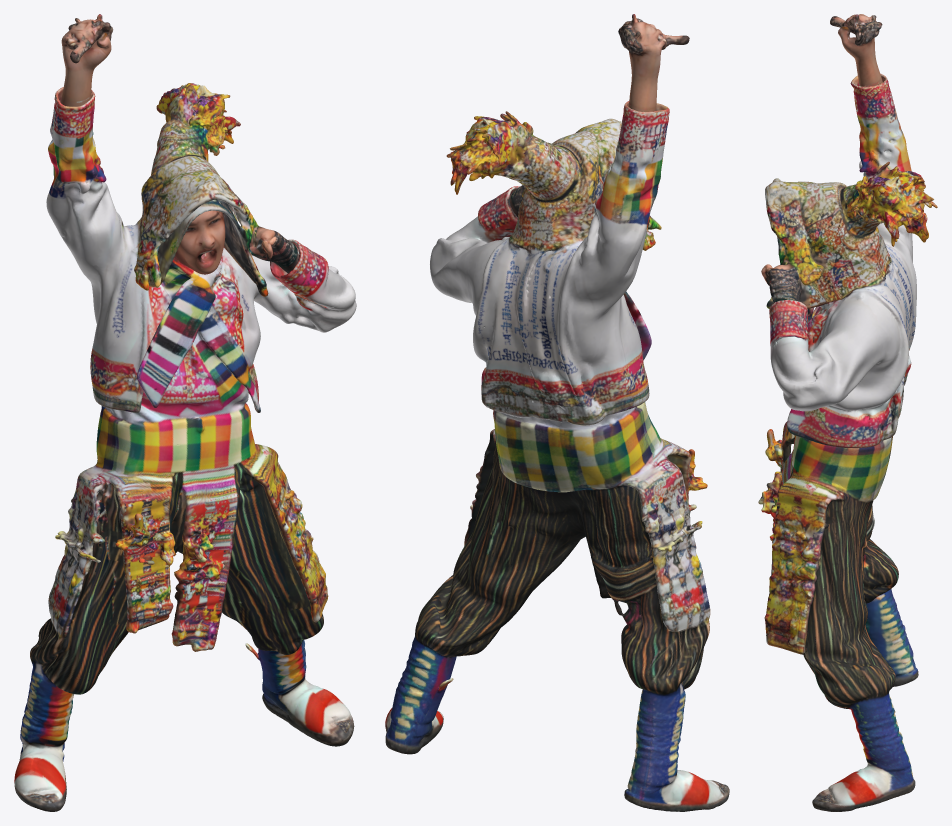
Rendered from tinkus.glb.
The picture shows the model from 3 angles, left to right: view 1: azimuth 30°, elevation 25°; view 2: azimuth 150°, elevation 25°; view 3: azimuth 270°, elevation 25°; orthographic projection. The views are drawn at different scales.
Parts seen in each view (by area): view 1: tripo_node_973b33f5-0dea-4c58-978b-e0c03b3abc6c; view 2: tripo_node_973b33f5-0dea-4c58-978b-e0c03b3abc6c; view 3: tripo_node_973b33f5-0dea-4c58-978b-e0c03b3abc6c.
Part boxes in pixels (x1,y1,x2,y2): tripo_node_973b33f5-0dea-4c58-978b-e0c03b3abc6c: (14, 14, 356, 811); tripo_node_973b33f5-0dea-4c58-978b-e0c03b3abc6c: (385, 14, 729, 811); tripo_node_973b33f5-0dea-4c58-978b-e0c03b3abc6c: (758, 14, 937, 811).
Bounding box in the file's own units: 0.4449 × 1 × 0.2329.
Materials: 1 (1 with a texture image).
